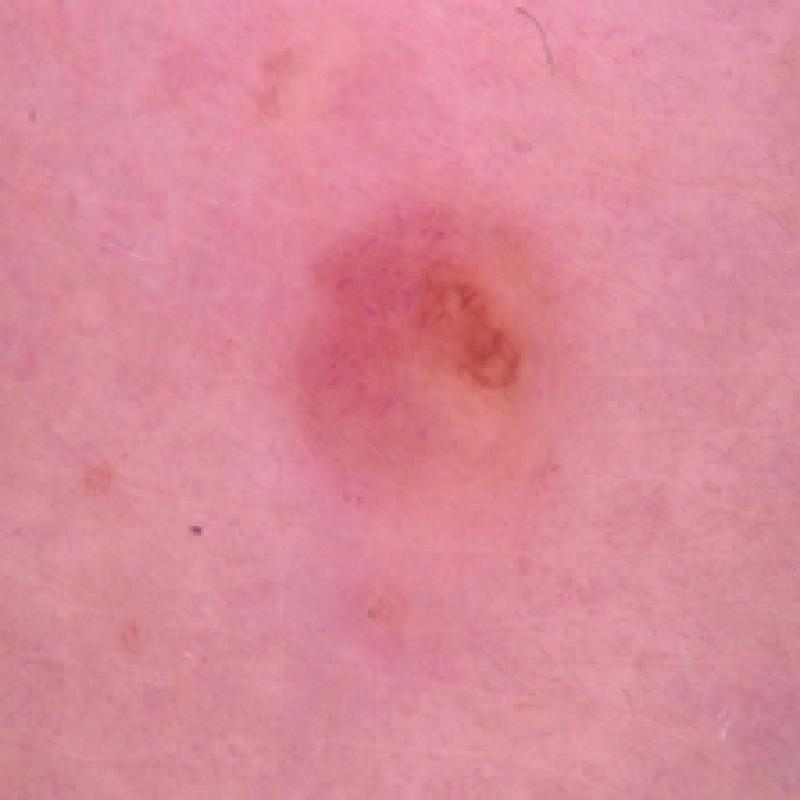benign: (288, 163, 584, 523)
